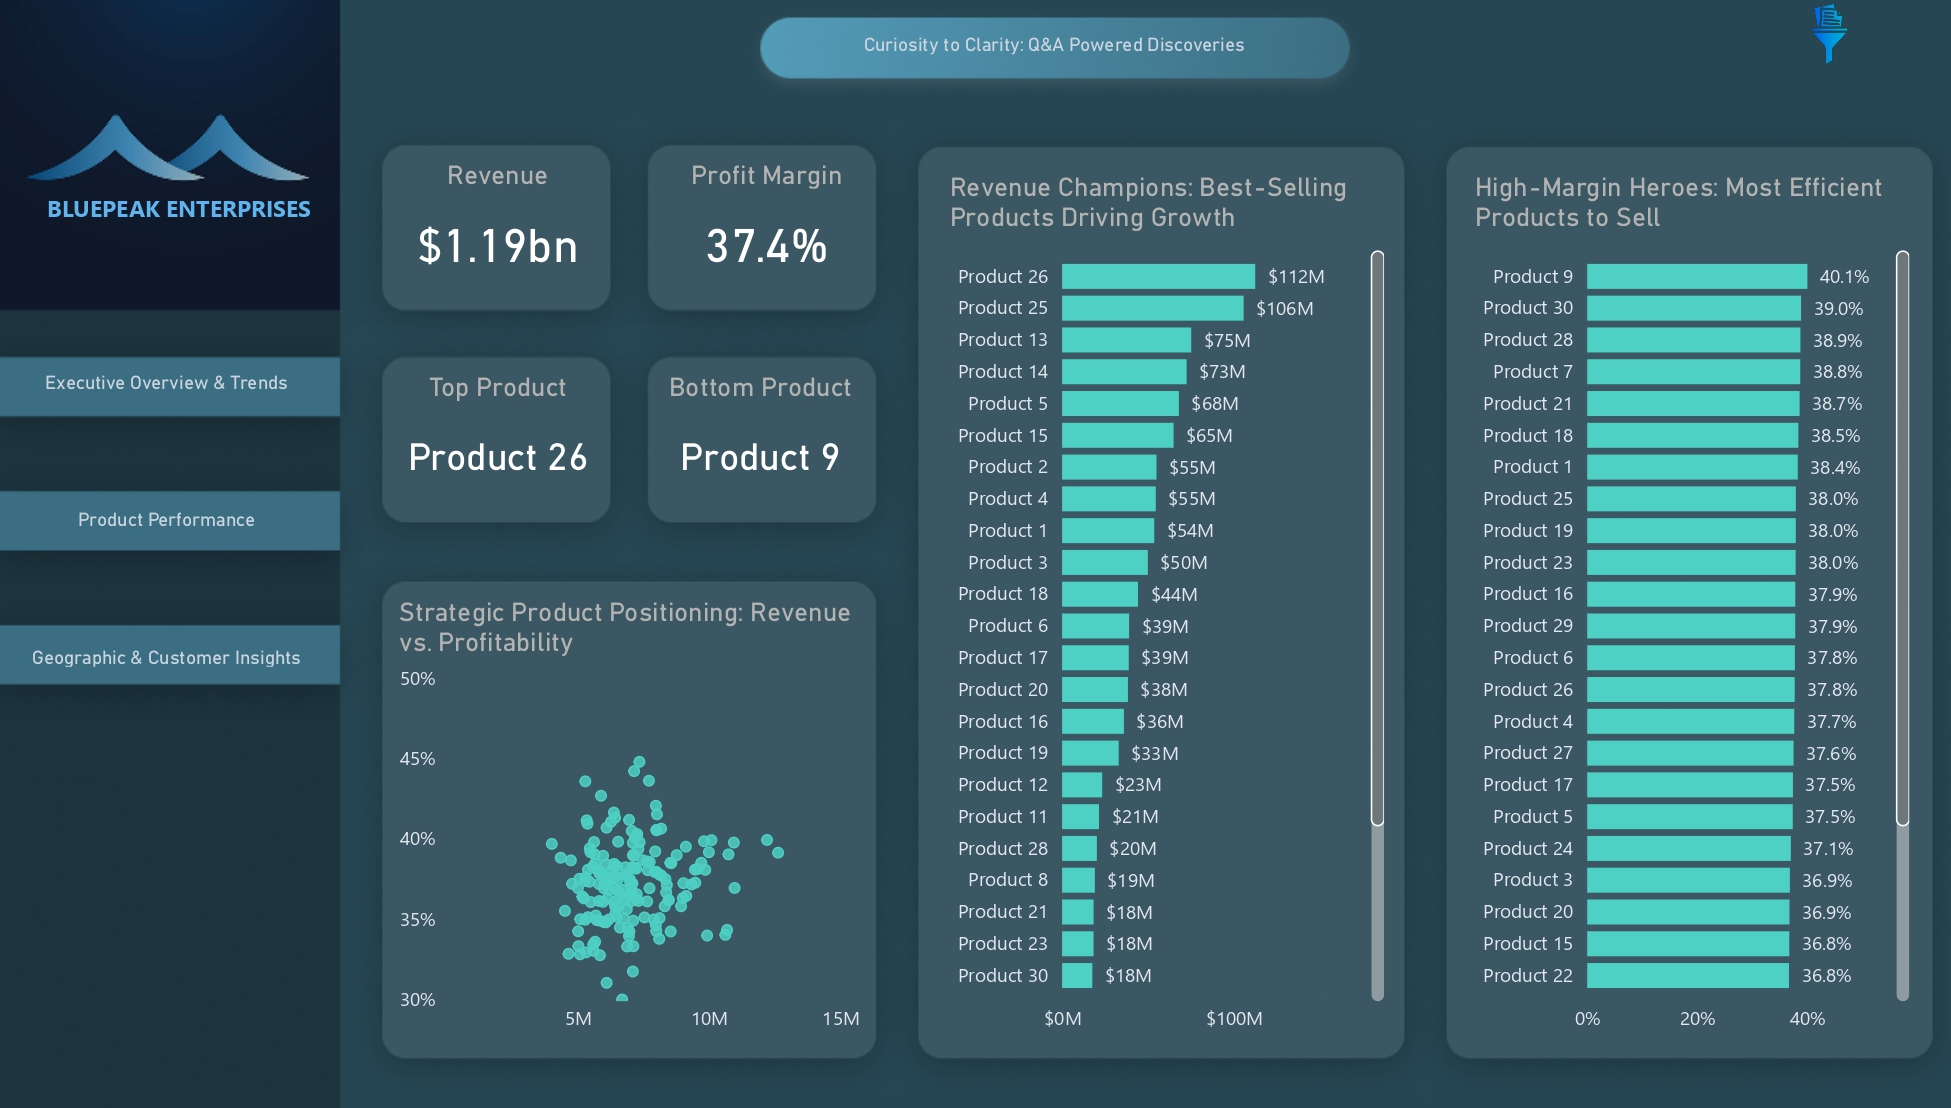

This screenshot's page, from the dashboard's own definition file:
{"tool":"powerbi","page":{"name":"Product Performance","canvas":[1260,720],"ordinal":1},"visuals":[{"type":"card","title":"Revenue","fields":{"Values":["Key Measures.Revenue"]},"box":[256,104,136,88],"z":0},{"type":"card","title":"Profit Margin","fields":{"Values":["Key Measures.Profit Margin"]},"box":[432,104,128,88],"z":1000},{"type":"card","title":"Top Product","fields":{"Values":["Min(DimProduct.ProductName)"]},"box":[256,240,136,88],"z":2000},{"type":"card","title":"Bottom Product","fields":{"Values":["Min(DimProduct.ProductName)"]},"box":[424,240,136,88],"z":3000},{"type":"clusteredBarChart","title":"Revenue Champions: Best-Selling Products Driving Growth","fields":{"Category":["DimProduct.ProductName"],"Y":["Key Measures.Revenue"]},"box":[608,112,288,560],"z":4000},{"type":"clusteredBarChart","title":"High-Margin Heroes: Most Efficient Products to Sell","fields":{"Category":["DimProduct.ProductName"],"Y":["Key Measures.Profit Margin"]},"box":[944,112,288,560],"z":5000},{"type":"scatterChart","title":"Strategic Product Positioning: Revenue vs. Profitability","fields":{"X":["DimCustomer.Customer Revenue"],"Y":["DimCustomer.Avg Profit Margin"]},"box":[256,384,304,288],"z":6000},{"type":"actionButton","title":"Executive Overview & Trends","box":[0,240,224,40],"z":7000},{"type":"actionButton","title":"Product Performance","box":[0,328,224,40],"z":8000},{"type":"actionButton","title":"Geographic & Customer Insights","box":[0,416,224,40],"z":9000},{"type":"textbox","box":[24,120,192,32],"z":10000},{"type":"actionButton","title":"Curiosity to Clarity: Q&A Powered Discoveries","box":[512,24,336,56],"z":11000},{"type":"image","title":"Filter","box":[1136,0,80,48],"z":13000}]}

Visuals, with their boxes in screenshot pixels (x1, y1, x2, y2), scaled from the page's 1260x720 canvas onto the 1951x1108 screenshot:
"Revenue" card: 396,160,607,295
"Profit Margin" card: 669,160,867,295
"Top Product" card: 396,369,607,505
"Bottom Product" card: 657,369,867,505
"Revenue Champions: Best-Selling Products Driving Growth" clusteredBarChart: 941,172,1387,1034
"High-Margin Heroes: Most Efficient Products to Sell" clusteredBarChart: 1462,172,1908,1034
"Strategic Product Positioning: Revenue vs. Profitability" scatterChart: 396,591,867,1034
"Executive Overview & Trends" actionButton: 0,369,347,431
"Product Performance" actionButton: 0,505,347,566
"Geographic & Customer Insights" actionButton: 0,640,347,702
textbox: 37,185,334,234
"Curiosity to Clarity: Q&A Powered Discoveries" actionButton: 793,37,1313,123
"Filter" image: 1759,0,1883,74
